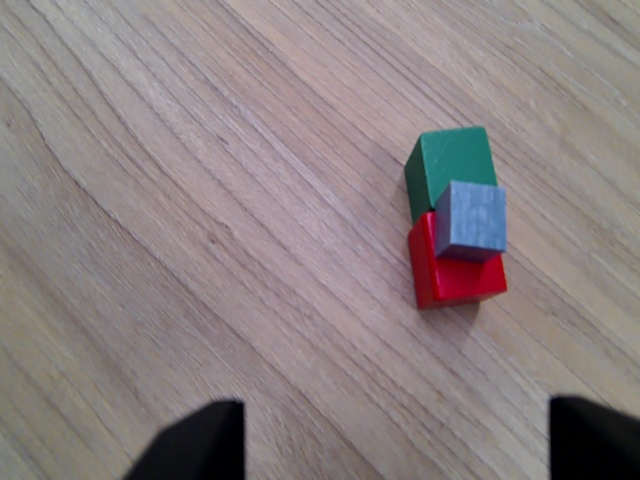stone: (426, 179, 511, 266)
